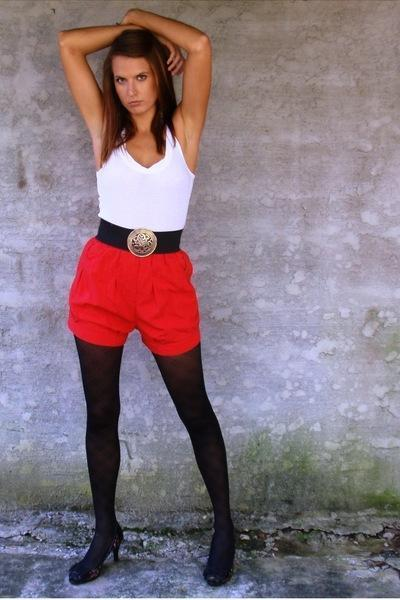shirt: (96, 132, 194, 230)
shoe: (69, 522, 238, 586)
skirt: (68, 237, 199, 359)
